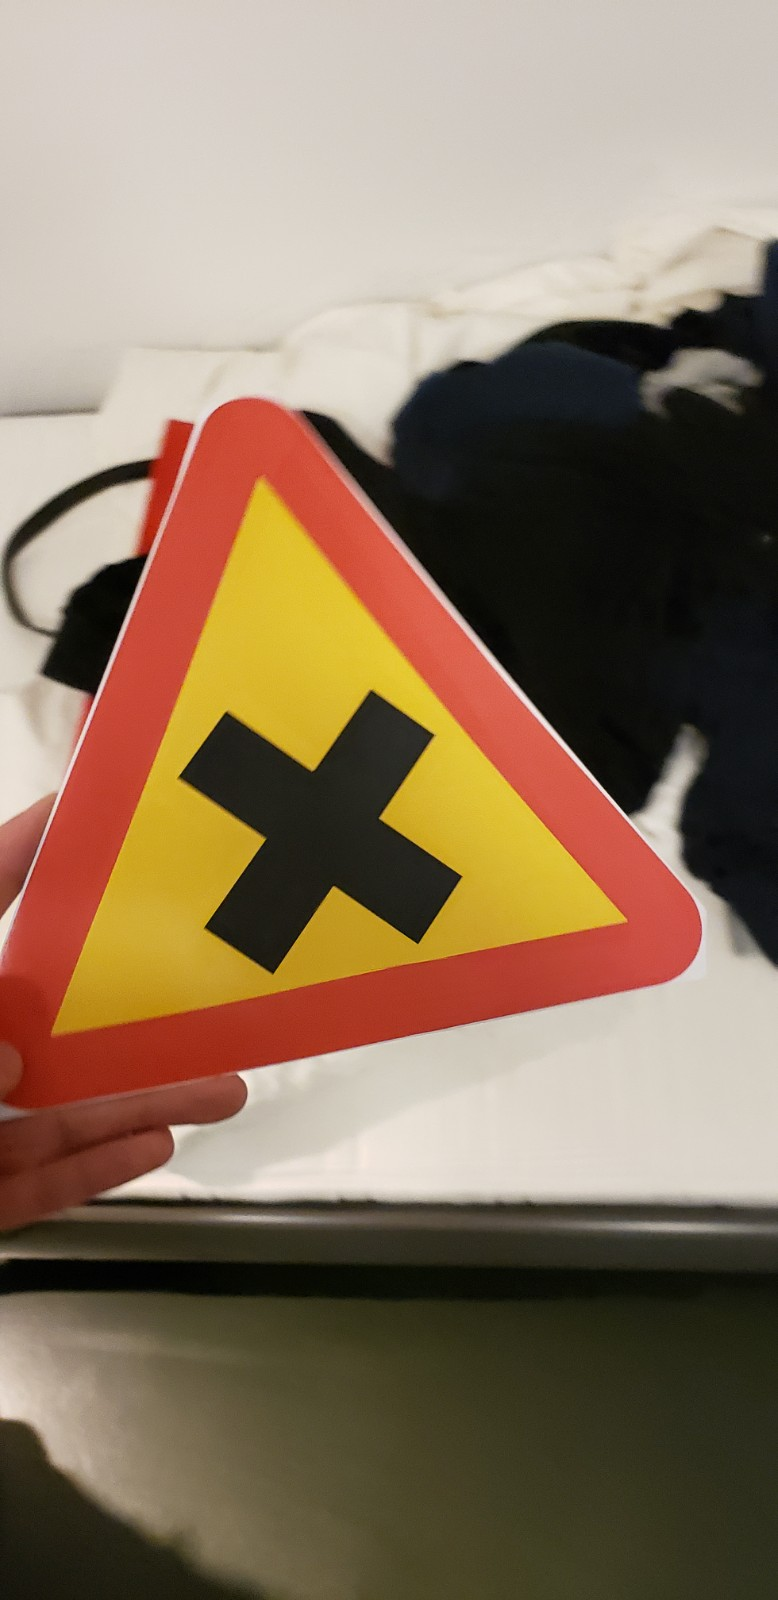junction: (1, 318, 767, 1109)
